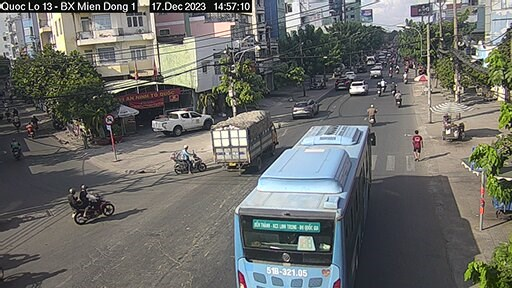bus: (228, 121, 388, 288)
car: (148, 108, 212, 128), (287, 93, 318, 120), (347, 79, 376, 96)
motorbike: (60, 181, 117, 227), (170, 139, 198, 176), (364, 103, 378, 123)
